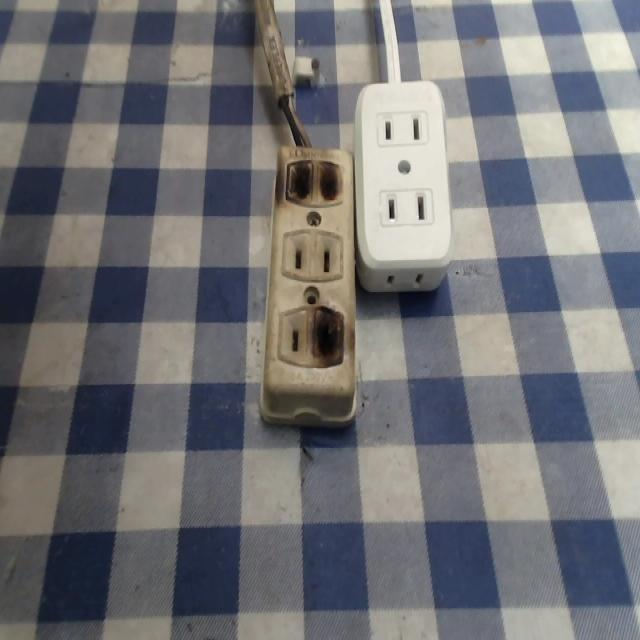-: (281, 153, 345, 208), (310, 304, 346, 367)
